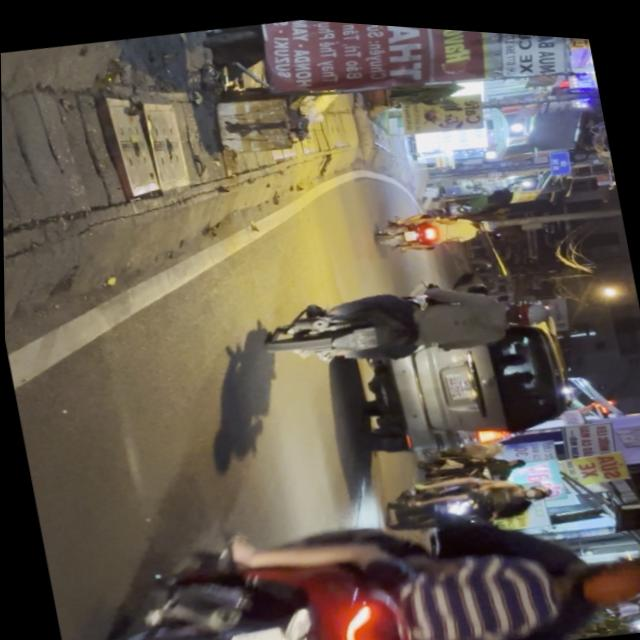helmet: (550, 535, 640, 609), (505, 289, 553, 323)
licenseplate: (65, 441, 640, 640), (251, 248, 559, 390)
nohelmet: (224, 619, 287, 640), (352, 320, 379, 345)
